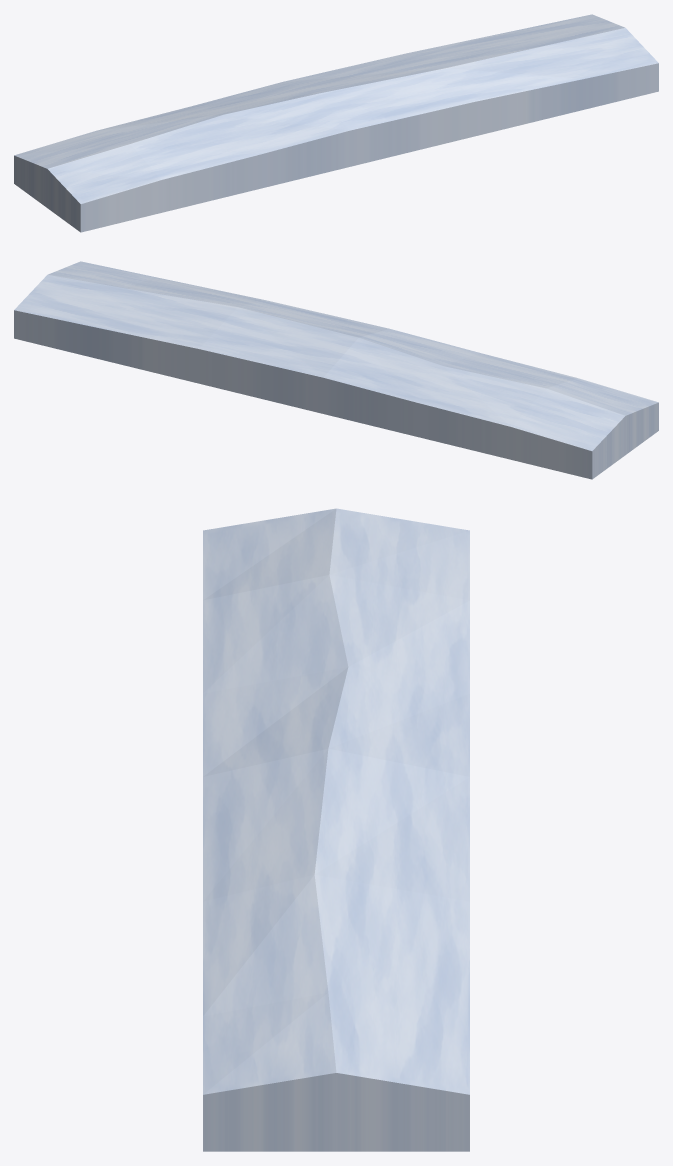
The model's file is snow_ledge.glb.
The picture shows the model from 3 angles, top to bottom: view 1: azimuth 30°, elevation 25°; view 2: azimuth 150°, elevation 25°; view 3: azimuth 270°, elevation 25°; orthographic projection. The views are drawn at different scales.
Parts seen in each view (by area): view 1: winter_snow_ledge; view 2: winter_snow_ledge; view 3: winter_snow_ledge.
Boxes of the visible parts, x1,y1,x2,y2 form: winter_snow_ledge: (14, 14, 658, 232); winter_snow_ledge: (14, 261, 658, 479); winter_snow_ledge: (203, 508, 469, 1151).
Bounding box in the file's own units: 1.2 × 0.1 × 0.24.
1 material, 1 textured.
